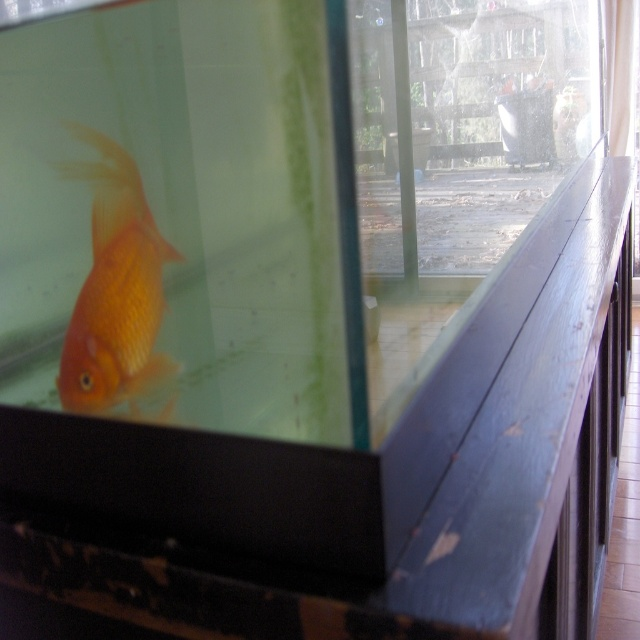Goldfish: (54, 126, 180, 418)
